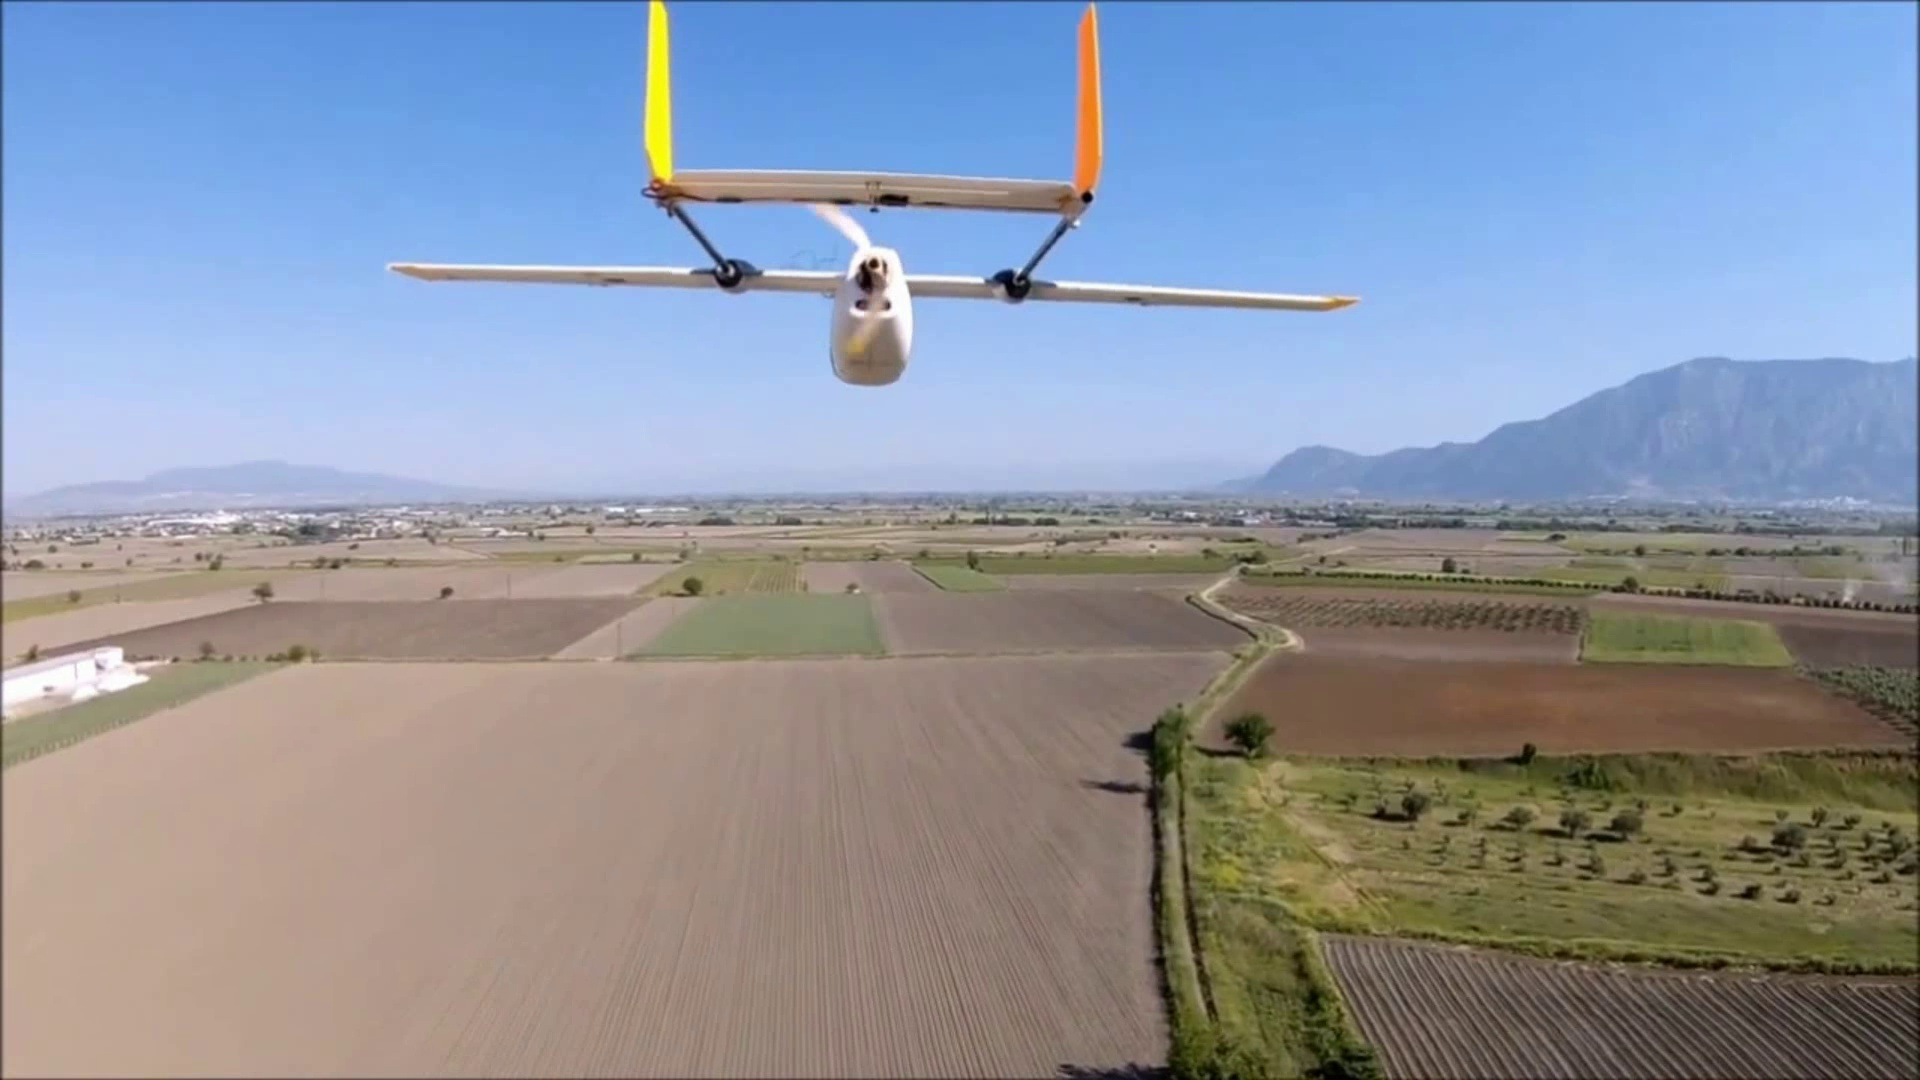airplane: (394, 4, 1356, 382)
